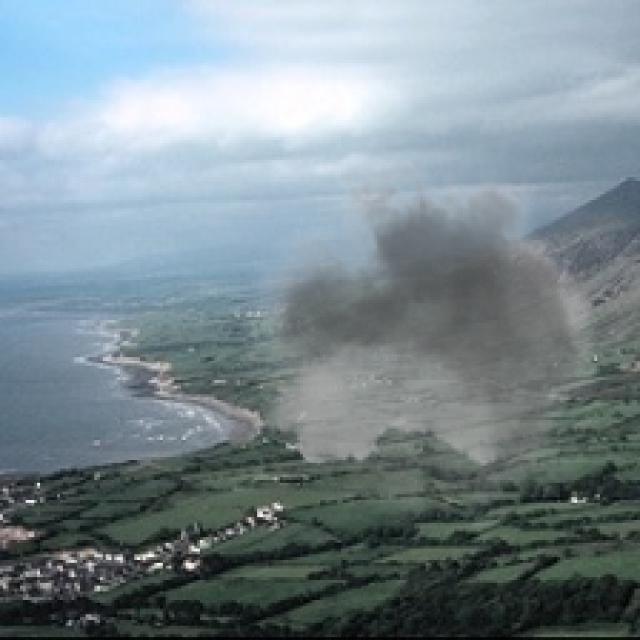Smoke: (240, 137, 617, 549)
